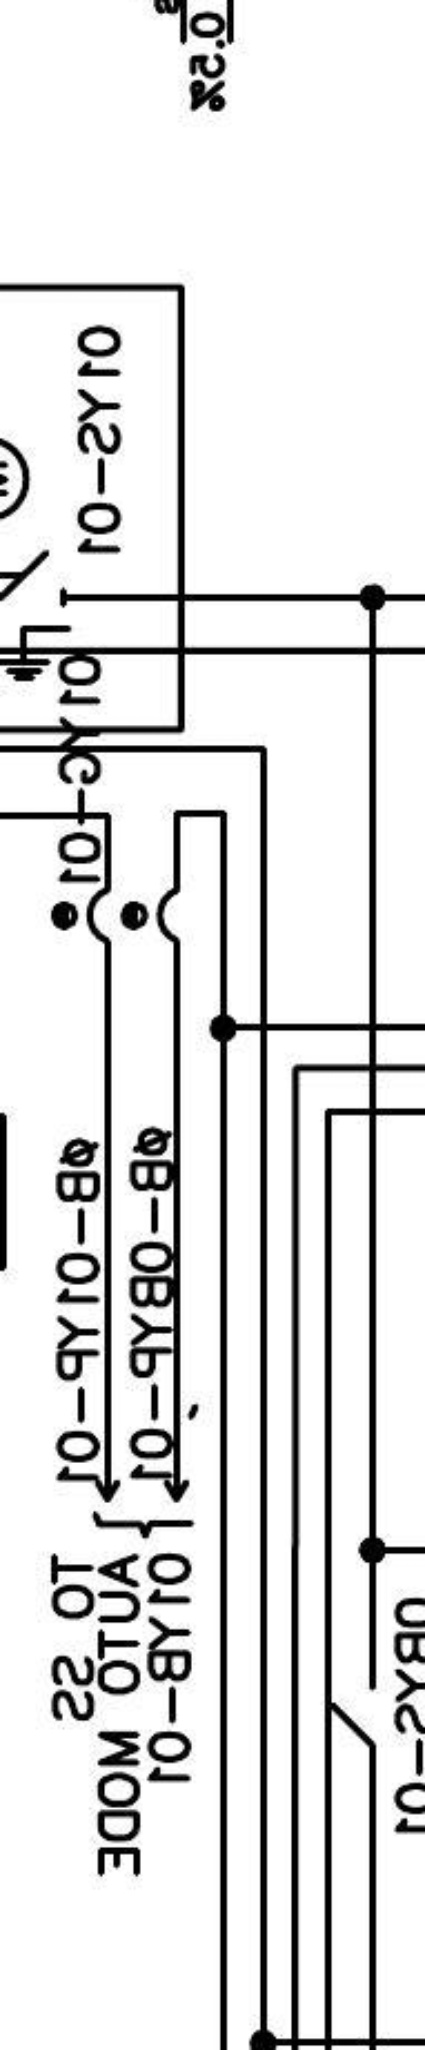115_ds: (332, 1681, 378, 1748)
